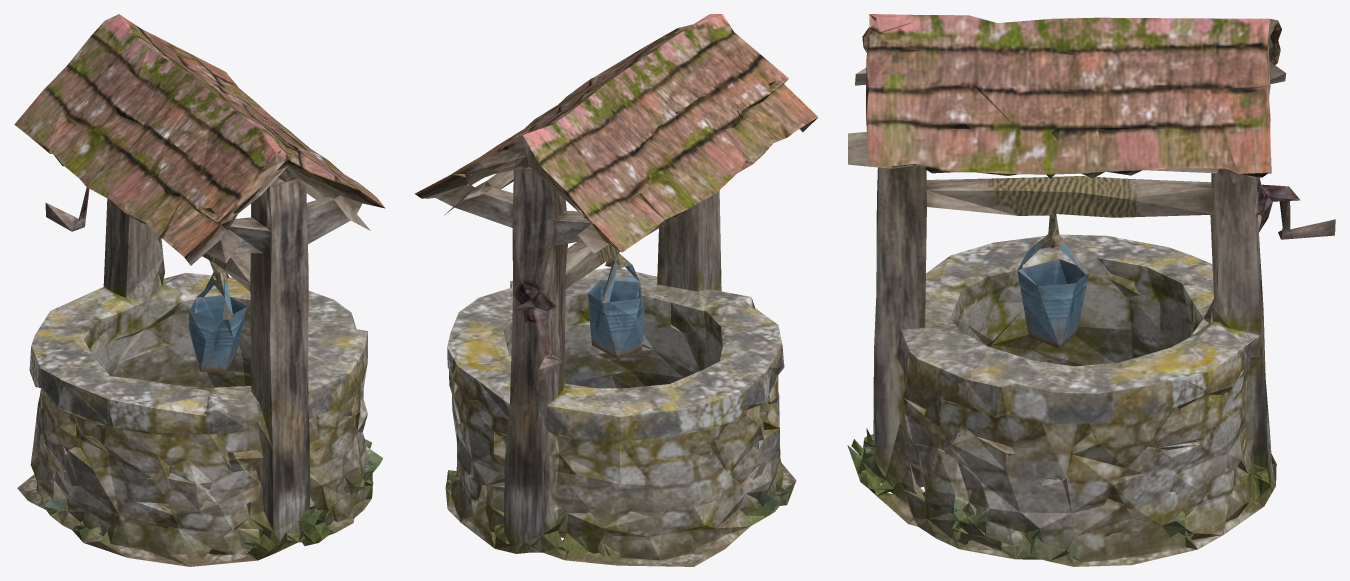
Rendered from well.obj.
3 renders of one model, left to right at view 1: azimuth 30°, elevation 25°; view 2: azimuth 150°, elevation 25°; view 3: azimuth 270°, elevation 25°, orthographic. The views are drawn at different scales.
Parts seen in each view (by area): view 1: well; view 2: well; view 3: well.
Part boxes in pixels (bbox=[...]): well: bbox=[14, 14, 385, 566]; well: bbox=[414, 14, 818, 566]; well: bbox=[847, 14, 1335, 566].
Size of the model in its own units: 2.08 by 2.67 by 2.5.
Materials: 1 (1 with a texture image).
